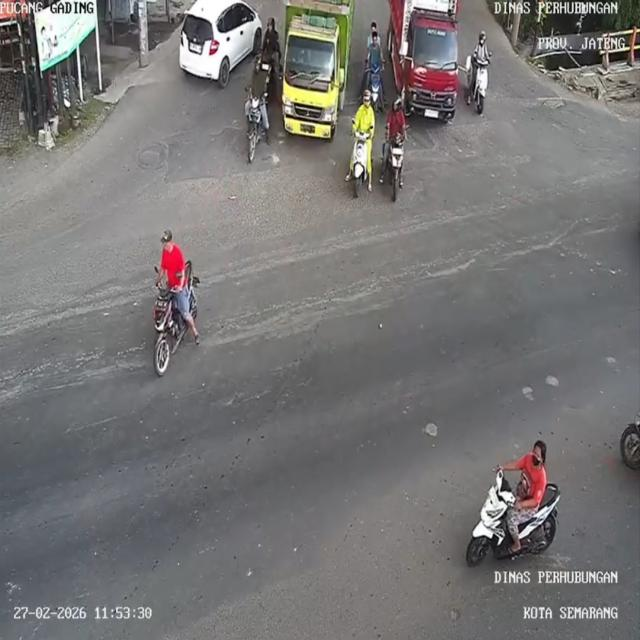motorcycle: (462, 488, 564, 565), (151, 276, 188, 377), (387, 129, 411, 201), (242, 91, 265, 166), (351, 128, 372, 198), (466, 59, 489, 118), (364, 62, 385, 97), (259, 45, 276, 87)
person: (512, 438, 548, 540), (159, 234, 195, 302), (351, 90, 376, 146), (386, 95, 412, 147), (249, 55, 273, 97), (263, 16, 281, 57), (367, 32, 385, 72), (473, 30, 493, 66), (366, 23, 386, 52)
rider_region: (464, 436, 564, 568), (138, 226, 204, 381), (343, 90, 378, 201), (380, 92, 410, 204), (242, 58, 271, 167), (464, 27, 492, 118), (366, 20, 386, 109), (259, 14, 285, 74)
